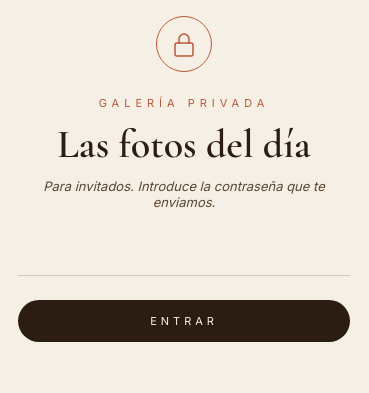
Test: PasswordGate › shows error message with wrong password
The width and height of the screenshot is (369, 393).
Type "wrong" into the password field with test id "password-input" at x=184, y=259, box left=18, top=242, right=350, bottom=276
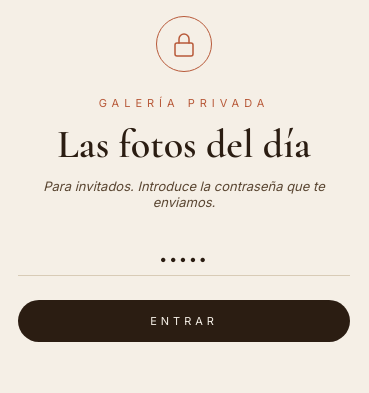
Click the button "Entrar" at x=184, y=321, box left=18, top=300, right=350, bottom=342
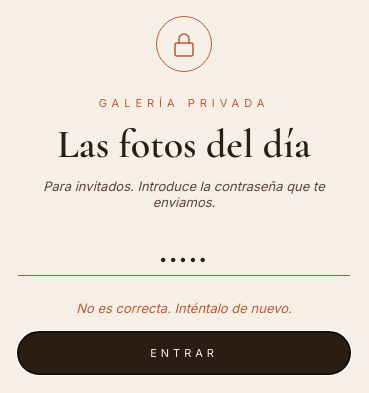
Expected: the text "No es correcta. Inténtalo de nuevo." is shown, left=76, top=300, right=292, bottom=316
